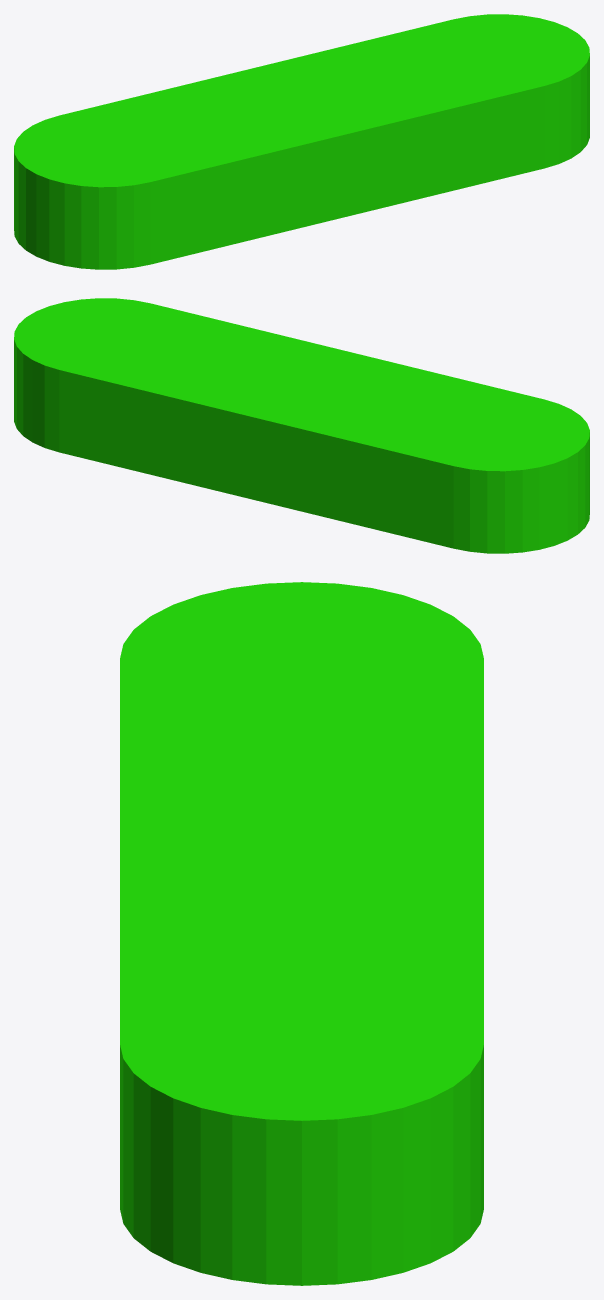
Rendered from scara-link-1.dae.
3 renders of one model, top to bottom at view 1: azimuth 30°, elevation 25°; view 2: azimuth 150°, elevation 25°; view 3: azimuth 270°, elevation 25°, orthographic. The views are drawn at different scales.
Visible parts, largest first — view 1: Link1; view 2: Link1; view 3: Link1.
Boxes of the visible parts, bbox=[...] form: Link1: bbox=[14, 14, 589, 269]; Link1: bbox=[14, 298, 589, 553]; Link1: bbox=[120, 582, 483, 1285].
Bounding box in the file's own units: 1.4 × 0.4 × 0.2.
